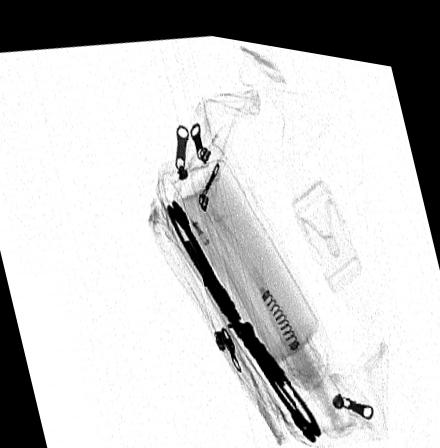HandCuffs: (165, 193, 321, 431)
